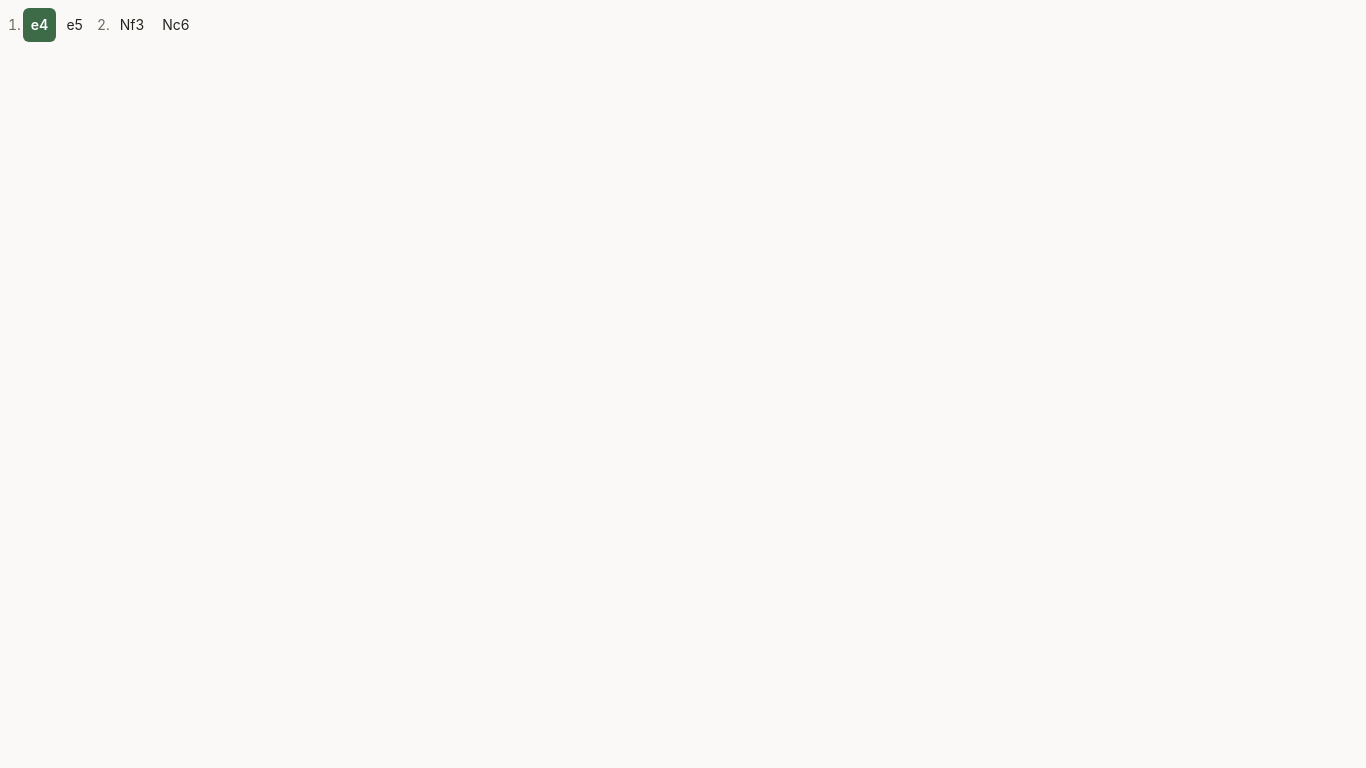
Test case: MoveStrip › long-pressing a chip opens the analysis inspector with its saved analysis
Step 1. Press the mouse on the button "e4" → (40, 25), box [23,8,56,42]
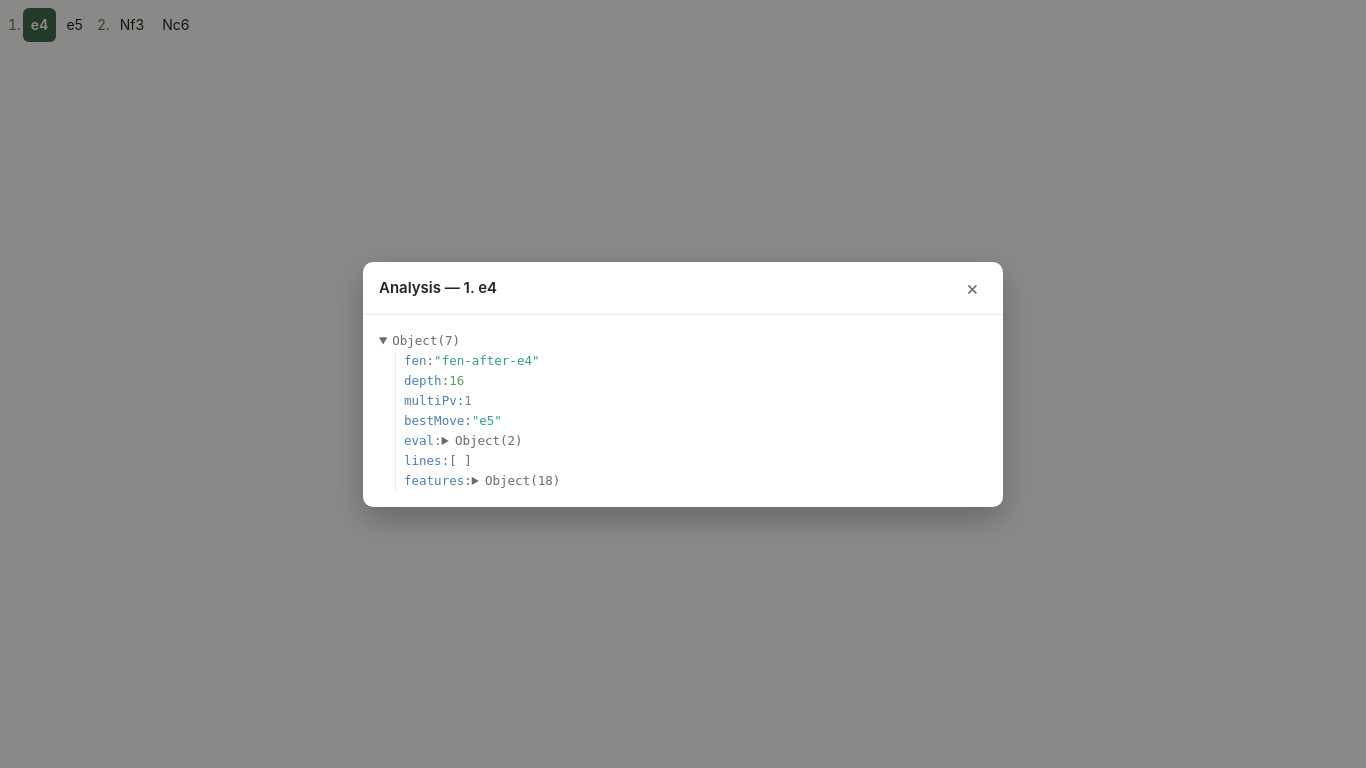
Expected: the dialog is shown, [363,262,1003,506]
